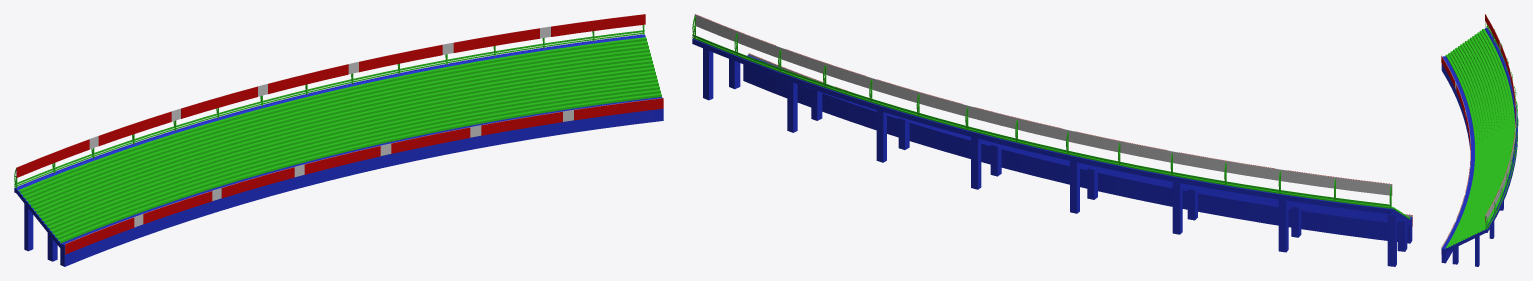
Rendered from Tribune_2.fbx.
3 views of the same model, side by side, from view 1: azimuth 30°, elevation 25°; view 2: azimuth 150°, elevation 25°; view 3: azimuth 270°, elevation 25° (orthographic). The views are drawn at different scales.
Parts seen in each view (by area): view 1: Tribune_2; view 2: Tribune_2; view 3: Tribune_2.
Part boxes in pixels (left/top/right/bottom): Tribune_2: left=14, top=14, right=663, bottom=266; Tribune_2: left=692, top=14, right=1412, bottom=266; Tribune_2: left=1441, top=14, right=1518, bottom=266.
Size of the model in its own units: 34327 by 4105 by 5562.
